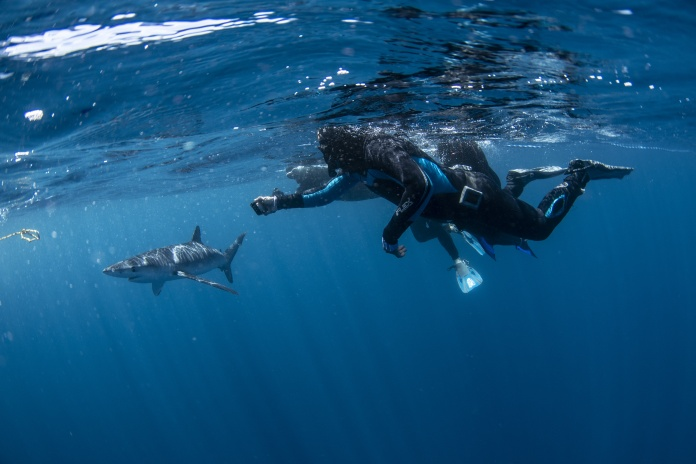Azul: (79, 206, 258, 307)
